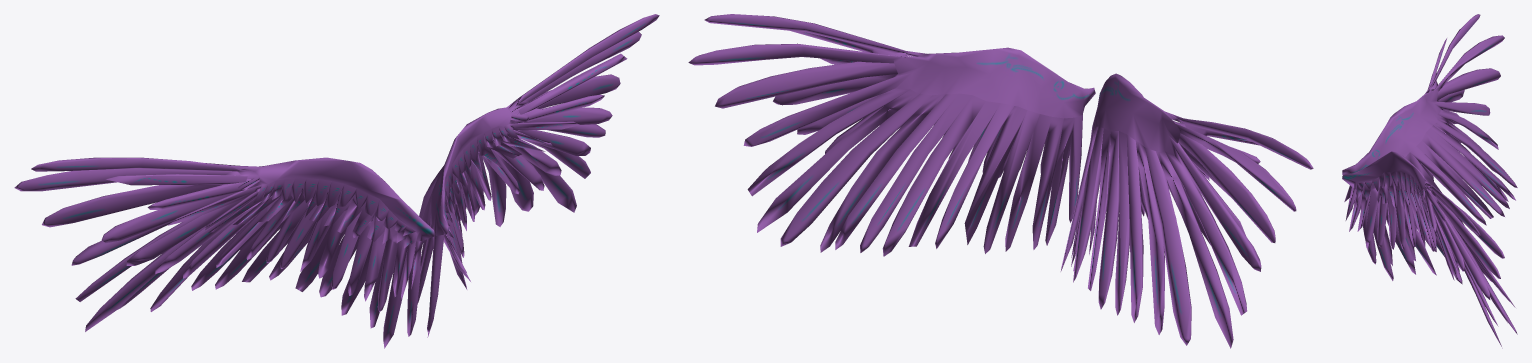
File: faewings-lite.glb
3 views of the same model, side by side, from view 1: azimuth 30°, elevation 25°; view 2: azimuth 150°, elevation 25°; view 3: azimuth 270°, elevation 25° (orthographic). The views are drawn at different scales.
Parts seen in each view (by area): view 1: faewings_0; view 2: faewings_0; view 3: faewings_0.
Part boxes in pixels (<box>): faewings_0: <box>14,14,659,348</box>; faewings_0: <box>688,14,1313,348</box>; faewings_0: <box>1342,14,1517,348</box>.
Bounding box in the file's own units: 1.8 × 0.586 × 0.606.
1 material, 1 textured.
